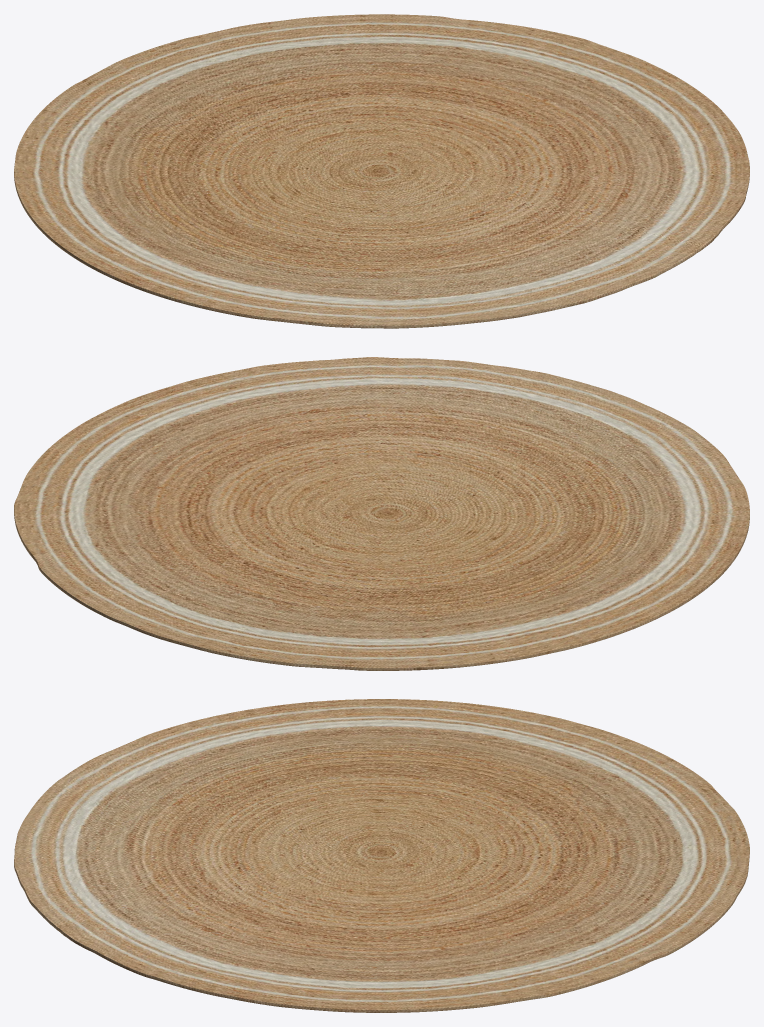
Rendered from B0719STM26.glb.
3 renders of one model, top to bottom at view 1: azimuth 30°, elevation 25°; view 2: azimuth 150°, elevation 25°; view 3: azimuth 270°, elevation 25°, orthographic.
Visible parts, largest first — view 1: RootNode; view 2: RootNode; view 3: RootNode.
Part boxes in pixels (bbox=[...]): RootNode: bbox=[14, 14, 749, 328]; RootNode: bbox=[14, 357, 749, 670]; RootNode: bbox=[14, 699, 749, 1012].
Bounding box in the file's own units: 2.44 × 0.0146 × 2.44.
1 material, 1 textured.
